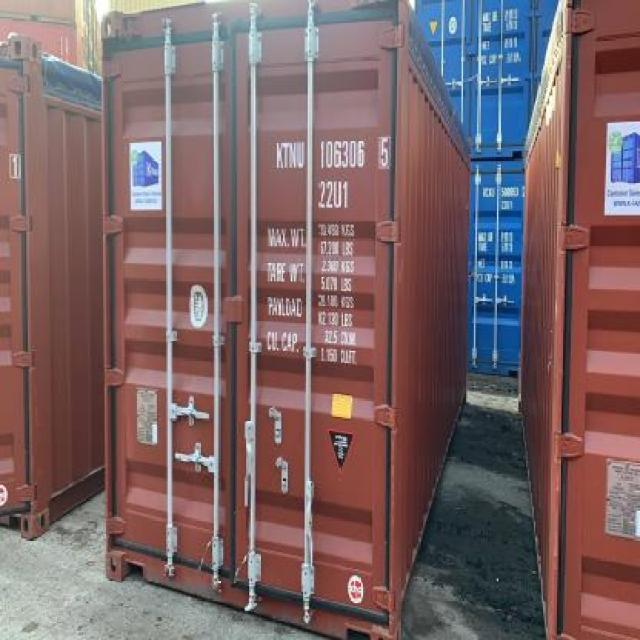ISO: (319, 179, 356, 208)
container_number: (272, 140, 394, 172)
